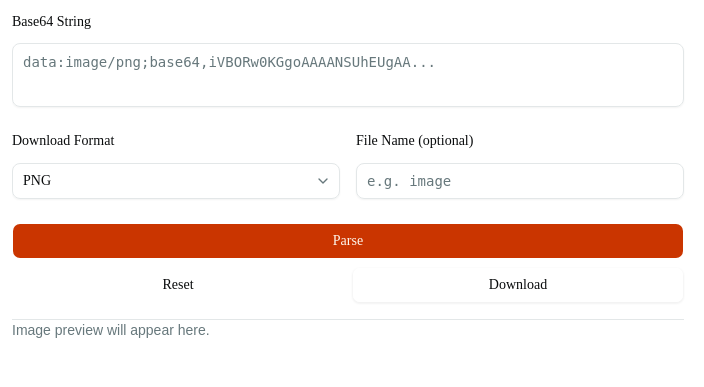
Base64ToImage › validation › shows error when submitting empty base64
Click the button "Parse": [348, 240] box [12,222,684,258]
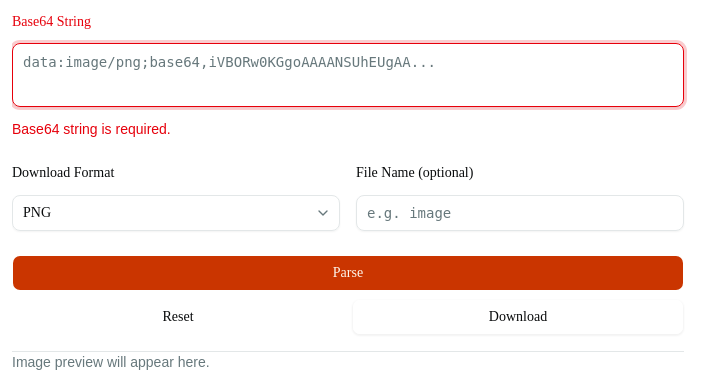
Result: the message "Base64 string is required." is shown at [12,121,171,137]
